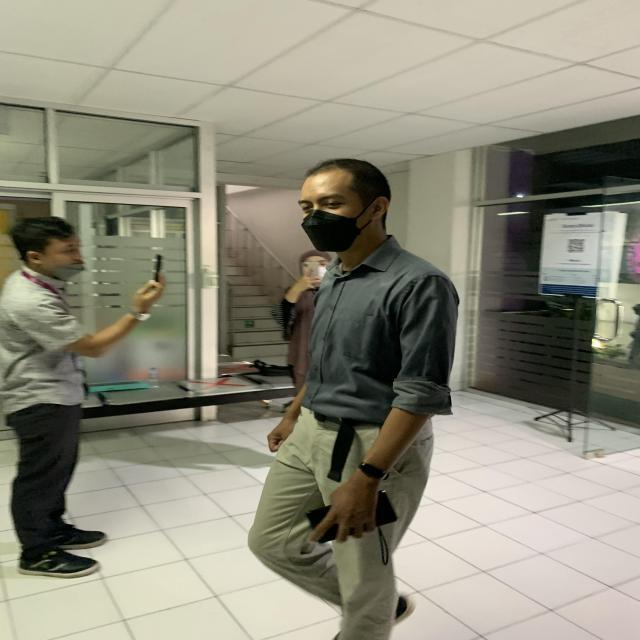hairnet: (11, 210, 88, 282)
